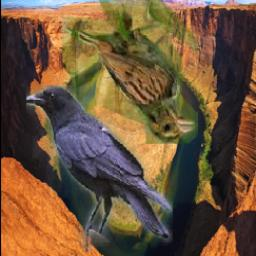Crow: (25, 85, 172, 252)
Sparrow: (61, 0, 197, 145)
